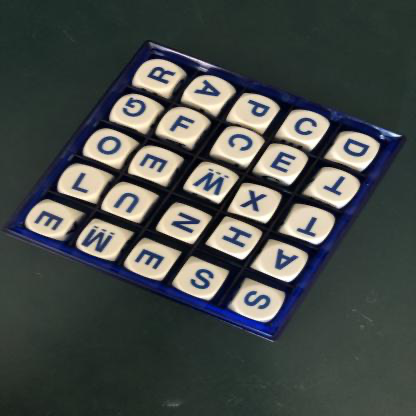a: (259, 244, 308, 279), (187, 76, 231, 107)
c: (284, 111, 330, 142), (218, 129, 263, 160)
d: (337, 133, 378, 165)
e: (129, 244, 175, 278), (134, 148, 180, 181), (26, 204, 71, 237), (262, 147, 307, 179)
f: (164, 110, 207, 140)
g: (114, 95, 159, 127)
h: (214, 221, 261, 256)
l: (62, 166, 105, 199)
m: (79, 223, 126, 257)
n: (165, 207, 210, 238)
o: (87, 132, 131, 163)
p: (235, 96, 278, 126)
r: (139, 60, 181, 92)
s: (234, 286, 285, 320), (177, 263, 226, 298)
t: (288, 208, 334, 240), (315, 171, 358, 203)
u: (109, 186, 153, 218)
w: (190, 166, 237, 198)
x: (235, 186, 280, 220)
